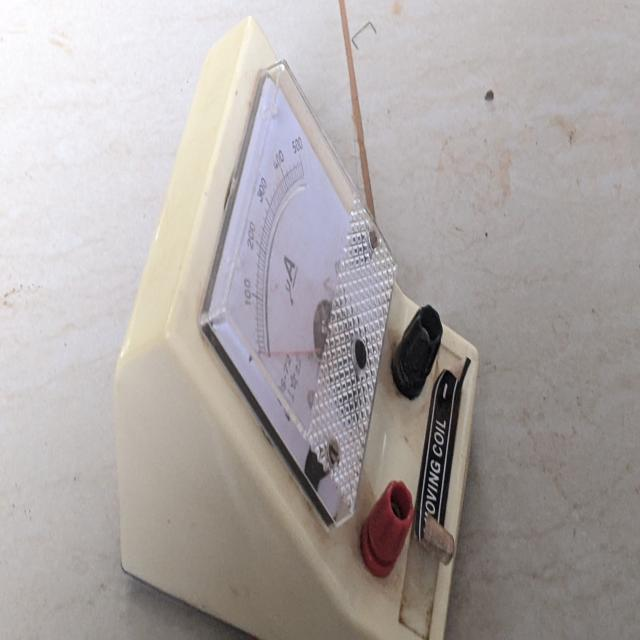Ammeter Analog: (109, 13, 484, 640)
